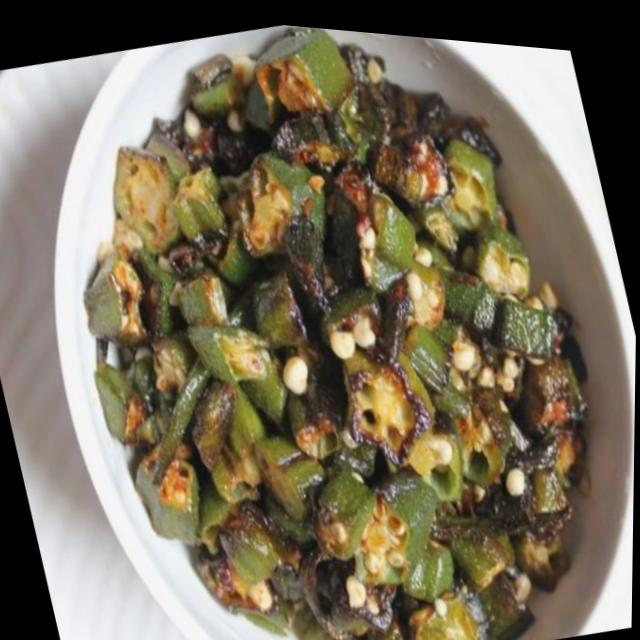VEGGIES: (80, 33, 584, 640)
